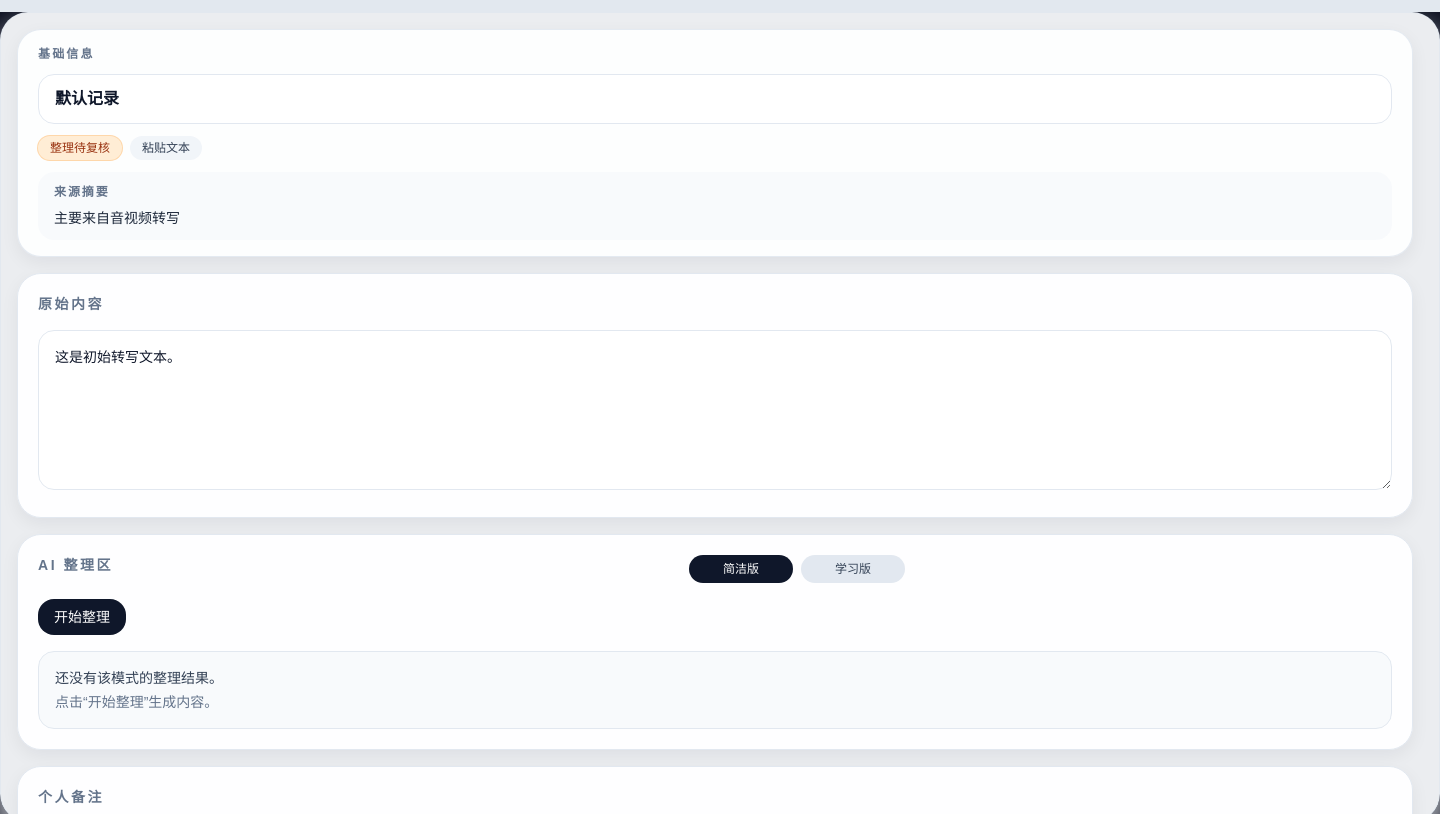
Test: DetailPane AI knowledge view › moves a transcript out of needs review after original content is edited and autosaved
Replace the text in the text box with placeholder "请粘贴字幕、笔记或你补充的正文内容。AI 只能基于这里的文本整理。" with "这是用户修正后的正文。" at (715, 410), box [38,330,1392,490]
(page scrolled)
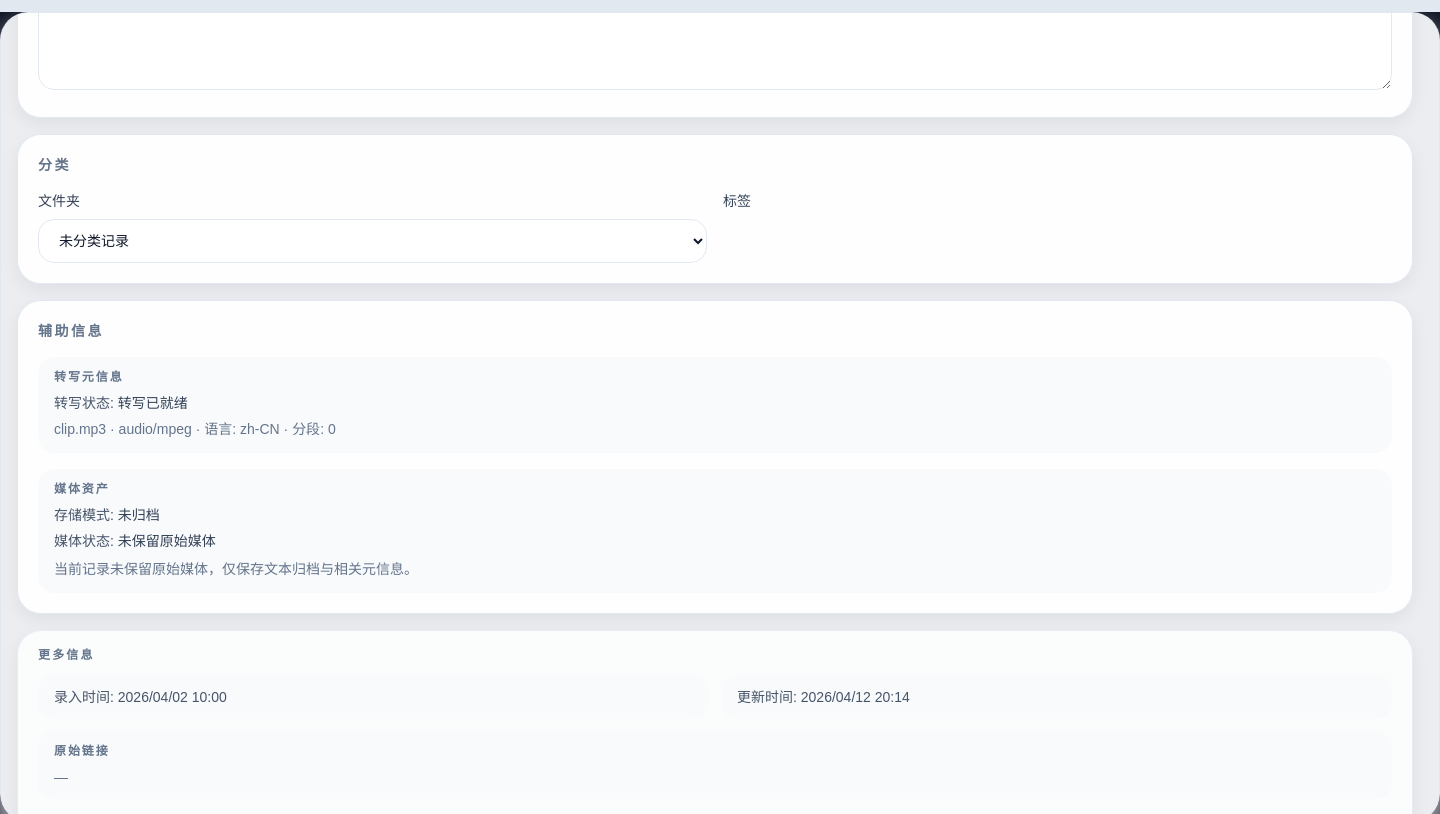
Check: the element with test id "detail-transcription-status" shows "转写状态: 转写已就绪", box [54,395,336,437]
